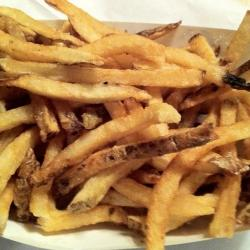fries: (3, 20, 210, 212)
